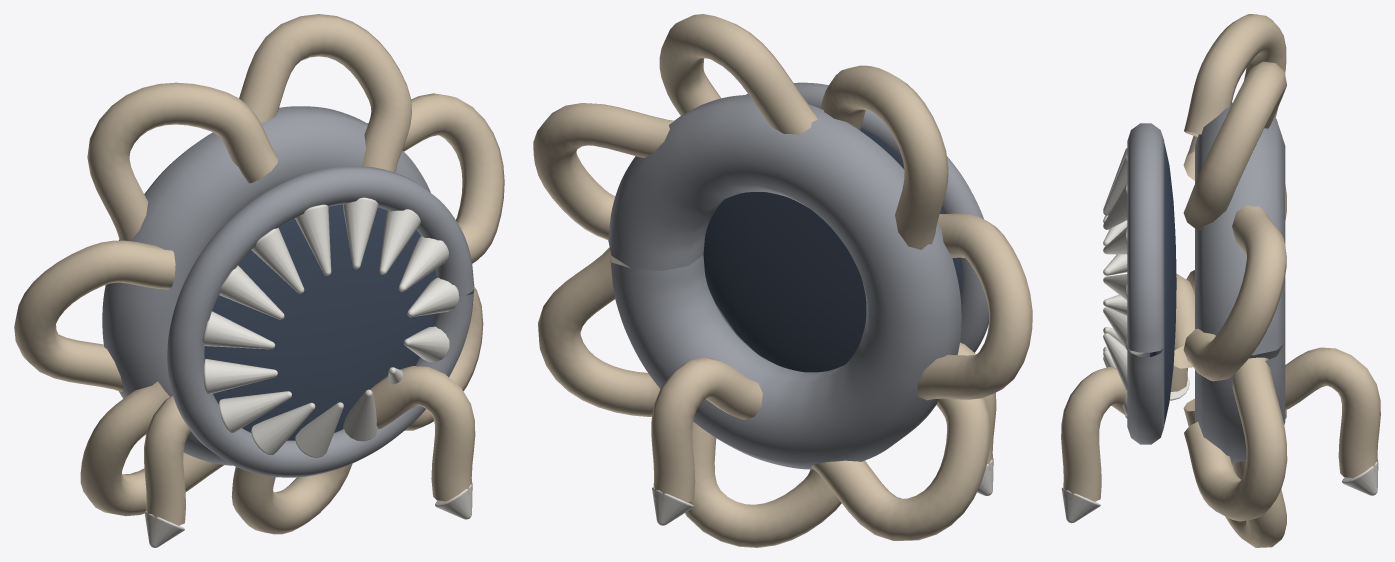
File: bio_spiral_maw_07_near.glb
The picture shows the model from 3 angles, left to right: view 1: azimuth 30°, elevation 25°; view 2: azimuth 150°, elevation 25°; view 3: azimuth 270°, elevation 25°; orthographic projection. The views are drawn at different scales.
Visible parts, largest first — view 1: Recessed mouth cavity, Raised oral lip, Rear muscular torus, Inward tooth, Coiling oral limb.002, Coiling oral limb.001, Coiling oral limb.003, Coiling oral limb, Coiling oral limb.004, Crooked support.002, Coiling oral limb.005, Crooked support.001 (+3 smaller); view 2: Rear muscular torus, Recessed mouth cavity, Coiling oral limb.003, Coiling oral limb.004, Coiling oral limb.002, Coiling oral limb.001, Coiling oral limb, Coiling oral limb.006, Crooked support, Coiling oral limb.005, Raised oral lip, Contact spur; view 3: Rear muscular torus, Raised oral lip, Coiling oral limb.006, Coiling oral limb, Coiling oral limb.001, Crooked support, Coiling oral limb.002, Crooked support.002, Inward tooth, Recessed mouth cavity, Coiling oral limb.005, Crooked support.001 (+3 smaller).
Boxes of the visible parts, box(x1,y1,x2,y2) form: Recessed mouth cavity: box(204, 204, 436, 440); Raised oral lip: box(167, 166, 474, 477); Rear muscular torus: box(102, 106, 430, 465); Inward tooth: box(202, 197, 459, 457); Coiling oral limb.002: box(87, 82, 277, 241); Coiling oral limb.001: box(239, 14, 411, 172); Coiling oral limb.003: box(14, 240, 175, 391); Coiling oral limb: box(367, 93, 504, 263); Coiling oral limb.004: box(80, 381, 224, 516); Crooked support.002: box(370, 366, 475, 501); Coiling oral limb.005: box(231, 463, 352, 534); Crooked support.001: box(144, 395, 190, 525); Rear muscular torus: box(608, 95, 961, 469); Recessed mouth cavity: box(703, 128, 962, 372); Coiling oral limb.003: box(917, 213, 1032, 400); Coiling oral limb.004: box(811, 397, 991, 540); Coiling oral limb.002: box(820, 65, 948, 249); Coiling oral limb.001: box(659, 14, 817, 134); Coiling oral limb: box(533, 103, 673, 239); Coiling oral limb.006: box(538, 247, 660, 416); Crooked support: box(651, 357, 762, 502); Coiling oral limb.005: box(685, 422, 841, 547); Raised oral lip: box(716, 82, 988, 352); Contact spur: box(652, 487, 693, 525); Rear muscular torus: box(1195, 102, 1285, 464); Raised oral lip: box(1127, 123, 1164, 444); Coiling oral limb.006: box(1184, 357, 1287, 521); Coiling oral limb: box(1183, 205, 1286, 381); Coiling oral limb.001: box(1183, 61, 1286, 230); Crooked support: box(1285, 347, 1380, 478); Coiling oral limb.002: box(1184, 14, 1286, 136); Crooked support.002: box(1061, 367, 1127, 501); Inward tooth: box(1103, 148, 1144, 418); Recessed mouth cavity: box(1150, 143, 1176, 424); Coiling oral limb.005: box(1183, 398, 1286, 547); Crooked support.001: box(1170, 273, 1194, 391).
Size of the model in its own units: 2.59 by 2.6 by 1.56.
